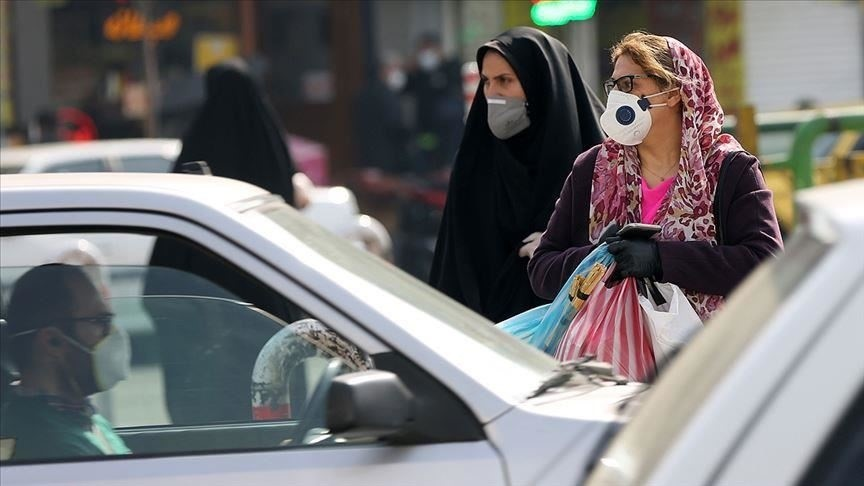face_with_mask: (592, 32, 691, 154), (476, 25, 571, 140)
